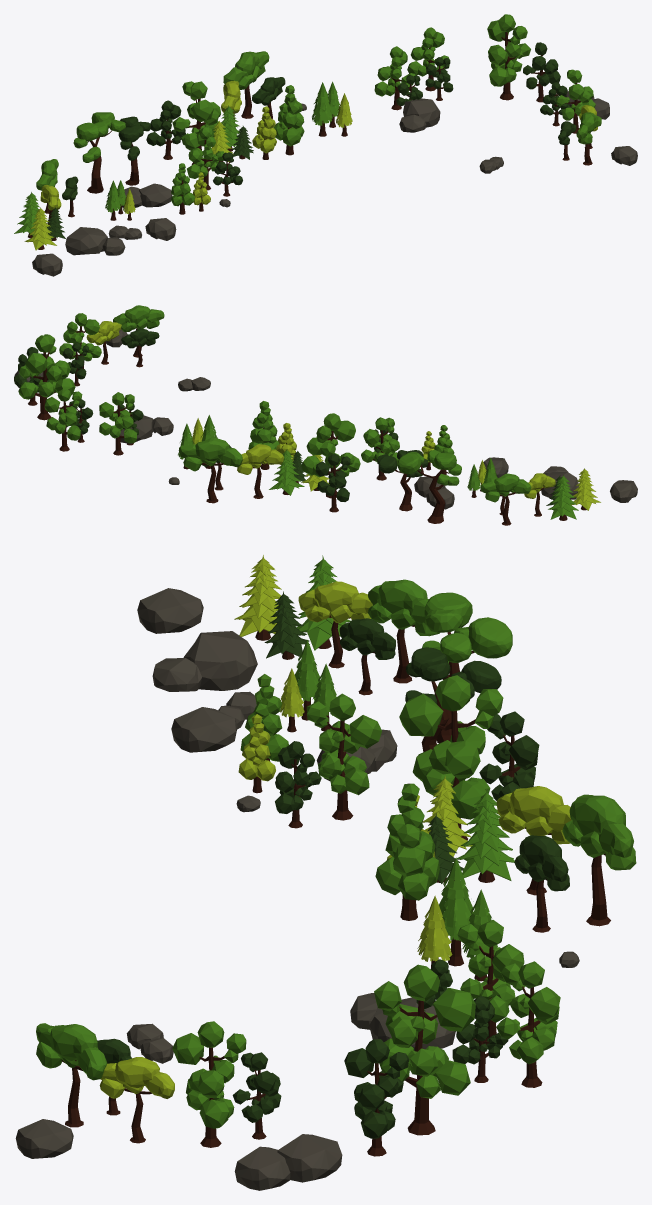
Rendered from Plant_1.FBX.
The picture shows the model from 3 angles, top to bottom: view 1: azimuth 30°, elevation 25°; view 2: azimuth 150°, elevation 25°; view 3: azimuth 270°, elevation 25°; orthographic projection. The views are drawn at different scales.
Parts seen in each view (by area): view 1: huitugou_2405_019, huitugou_2405_015, huitugou_2405_09, huitugou_2405_012, huitugou_2405_014, huitugou_2405_08, huitugou_2405_011, huitugou_2405_018, huitugou_2405_013, huitugou_2405_06, huitugou_2405_016, huitugou_2405_07 (+11 smaller); view 2: huitugou_2405_015, huitugou_2405_012, huitugou_2405_019, huitugou_2405_09, huitugou_2405_017, huitugou_2405_011, huitugou_2405_07, huitugou_2405_018, huitugou_2405_013, huitugou_2405_06, huitugou_2405_014, huitugou_2405_08 (+9 smaller); view 3: huitugou_2405_019, huitugou_2405_015, huitugou_2405_012, huitugou_2405_07, huitugou_2405_09, huitugou_2405_08, huitugou_2405_017, huitugou_2405_018, huitugou_2405_011, huitugou_2405_010, huitugou_2405_06, huitugou_2405_014 (+12 smaller).
Boxes of the visible parts, x1,y1,x2,y2 form: huitugou_2405_019: (487, 14, 560, 102); huitugou_2405_015: (146, 81, 220, 164); huitugou_2405_09: (73, 112, 150, 193); huitugou_2405_012: (221, 51, 285, 134); huitugou_2405_014: (252, 85, 304, 159); huitugou_2405_08: (187, 126, 242, 196); huitugou_2405_011: (407, 27, 453, 100); huitugou_2405_018: (540, 69, 595, 133); huitugou_2405_013: (374, 46, 422, 110); huitugou_2405_06: (14, 192, 65, 250); huitugou_2405_016: (312, 81, 352, 136); huitugou_2405_07: (36, 159, 78, 224); huitugou_2405_015: (301, 413, 360, 512); huitugou_2405_012: (178, 437, 283, 503); huitugou_2405_019: (14, 334, 75, 420); huitugou_2405_09: (377, 450, 461, 523); huitugou_2405_017: (86, 305, 164, 367); huitugou_2405_011: (44, 388, 93, 451); huitugou_2405_07: (480, 473, 555, 525); huitugou_2405_018: (59, 313, 101, 386); huitugou_2405_013: (99, 392, 143, 455); huitugou_2405_06: (546, 468, 600, 520); huitugou_2405_014: (248, 401, 296, 469); huitugou_2405_08: (361, 417, 399, 480); huitugou_2405_019: (344, 964, 475, 1156); huitugou_2405_015: (399, 675, 539, 840); huitugou_2405_012: (496, 786, 636, 932); huitugou_2405_07: (298, 579, 439, 695); huitugou_2405_09: (405, 592, 512, 751); huitugou_2405_08: (275, 693, 381, 828); huitugou_2405_017: (36, 1023, 174, 1143); huitugou_2405_018: (172, 1021, 281, 1147); huitugou_2405_011: (452, 961, 560, 1087); huitugou_2405_010: (422, 776, 514, 883); huitugou_2405_06: (234, 555, 350, 659); huitugou_2405_014: (375, 783, 439, 920).
Size of the model in its own units: 16104 by 2191 by 7333.
